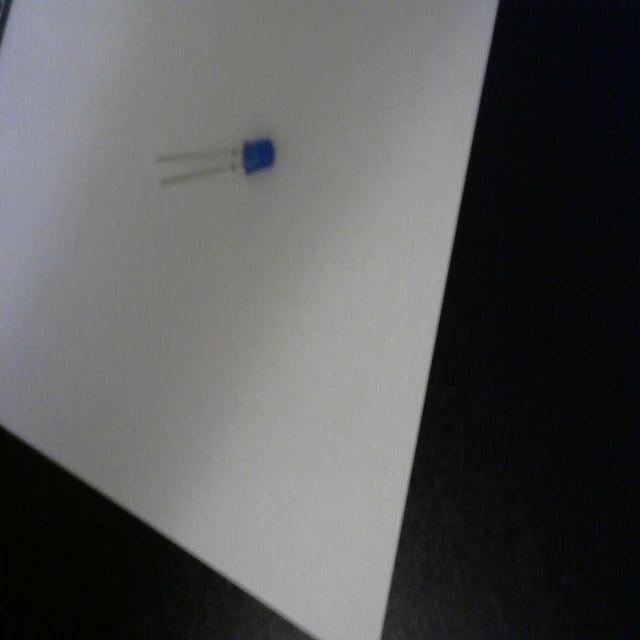blue_led: (148, 130, 281, 189)
